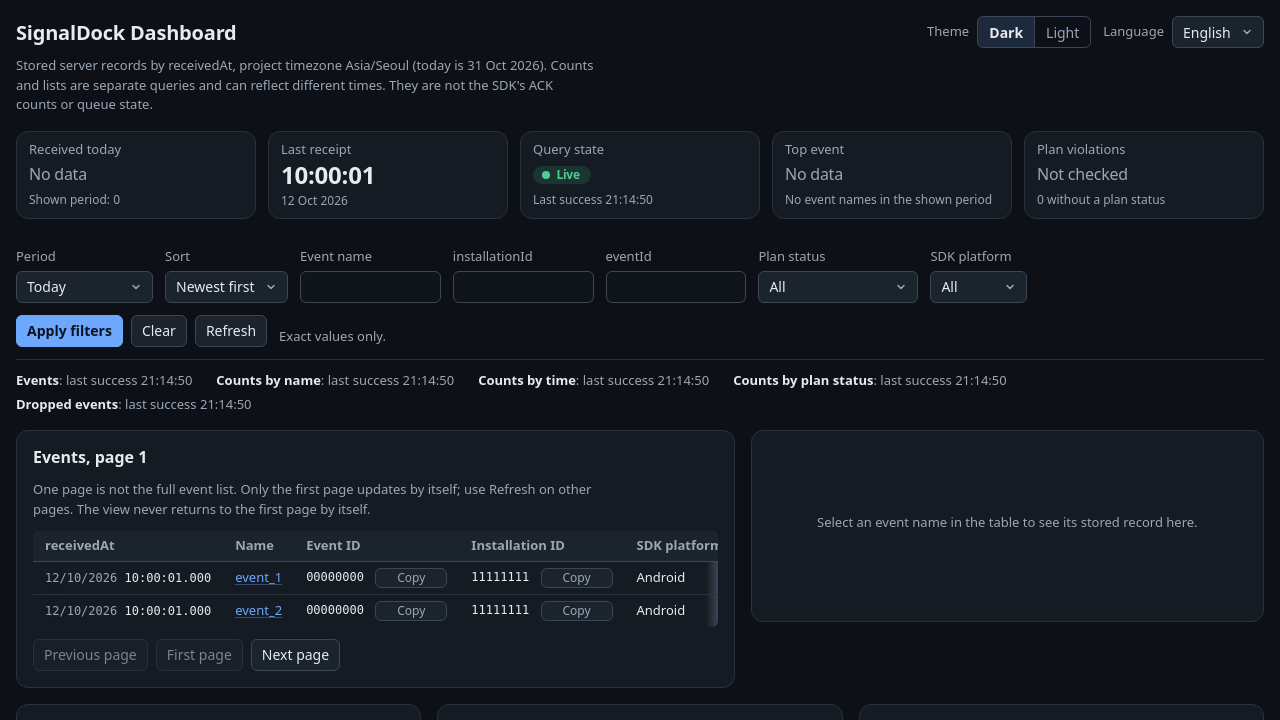
it: App (en) › labels the event table and the property table (issue 29)
This screenshot has width=1280, height=720.
Click the button "event_1". click: (259, 578)
box: [235,568,282,587]
(page scrolled)
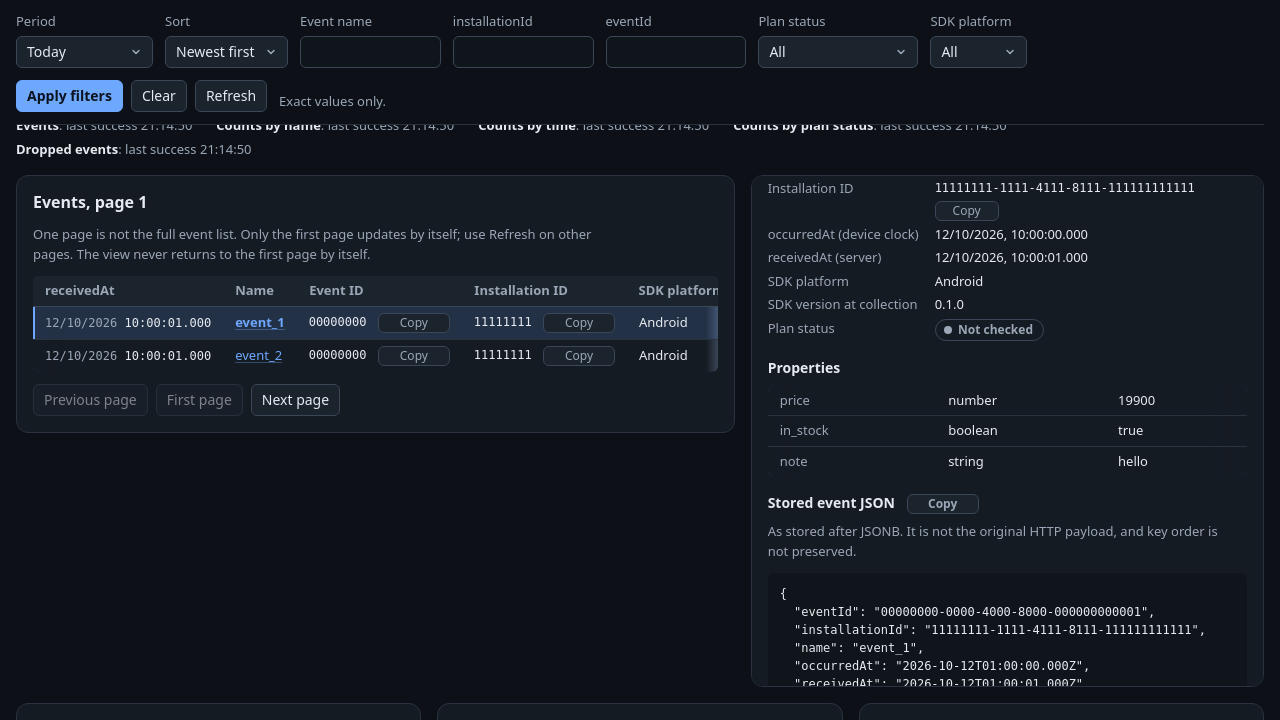
Check: the table named "Properties" is shown, box [768,386,1247,476]
